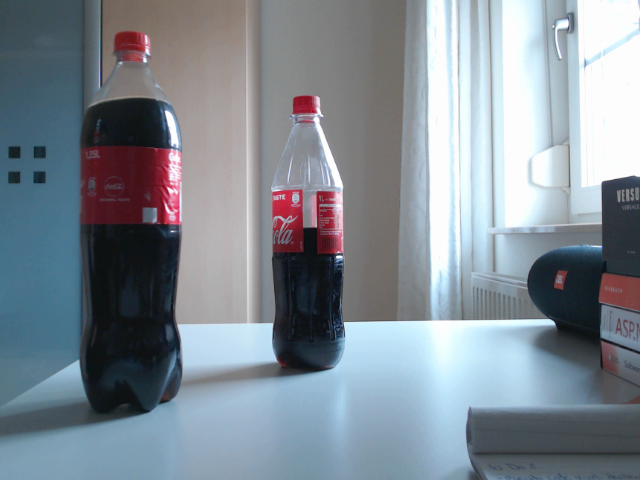bottle: (80, 31, 184, 414), (271, 95, 345, 370)
